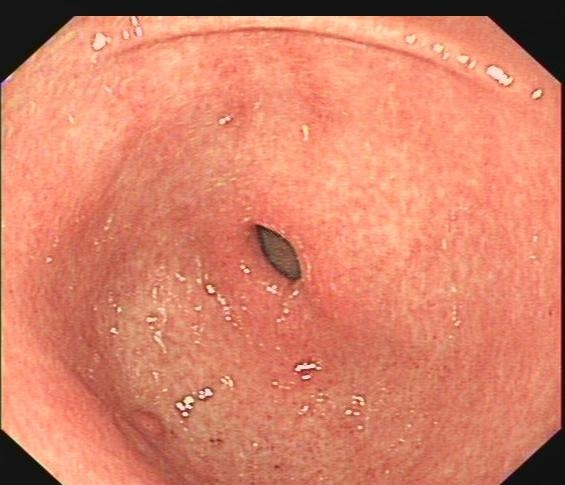Polyp: (106, 388, 177, 459)
